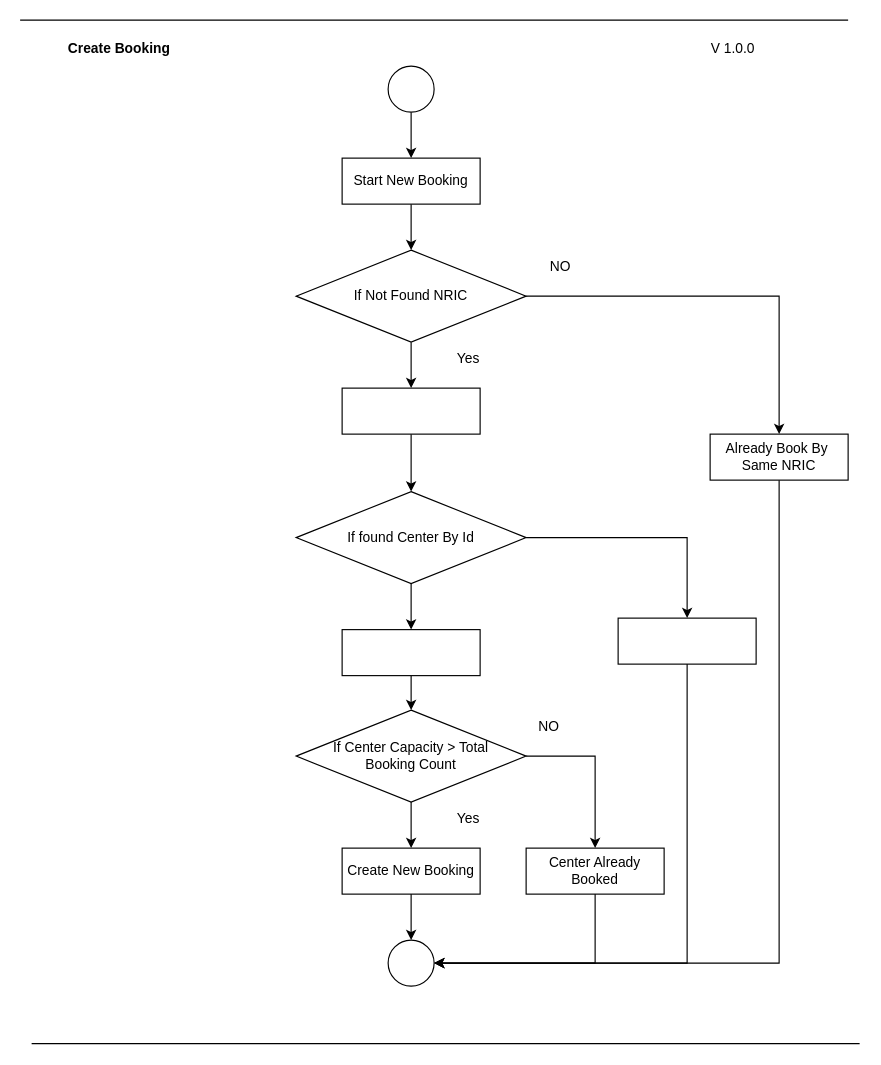
The diagram is 881 pixels wide and 1065 high, and some of its shapes have lost their labels. Here are the shapes that lost their labels. From the top down, the box of each, then its label:
(341, 387, 480, 434): Get Center Info By Center Id
(341, 628, 480, 676): Get Booking all By Center Id & Date
(617, 617, 756, 664): Center Not Found
